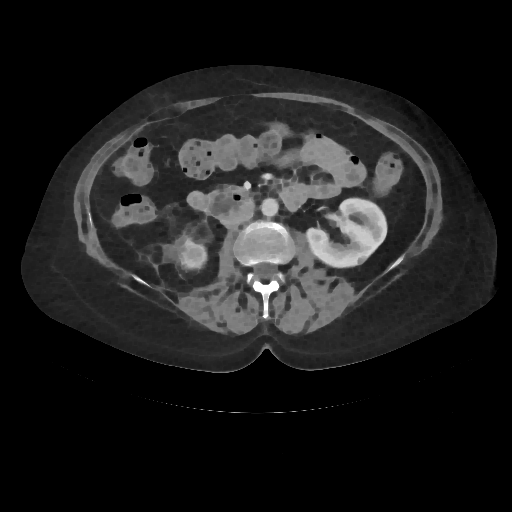Lesion: (353, 252, 373, 267)
